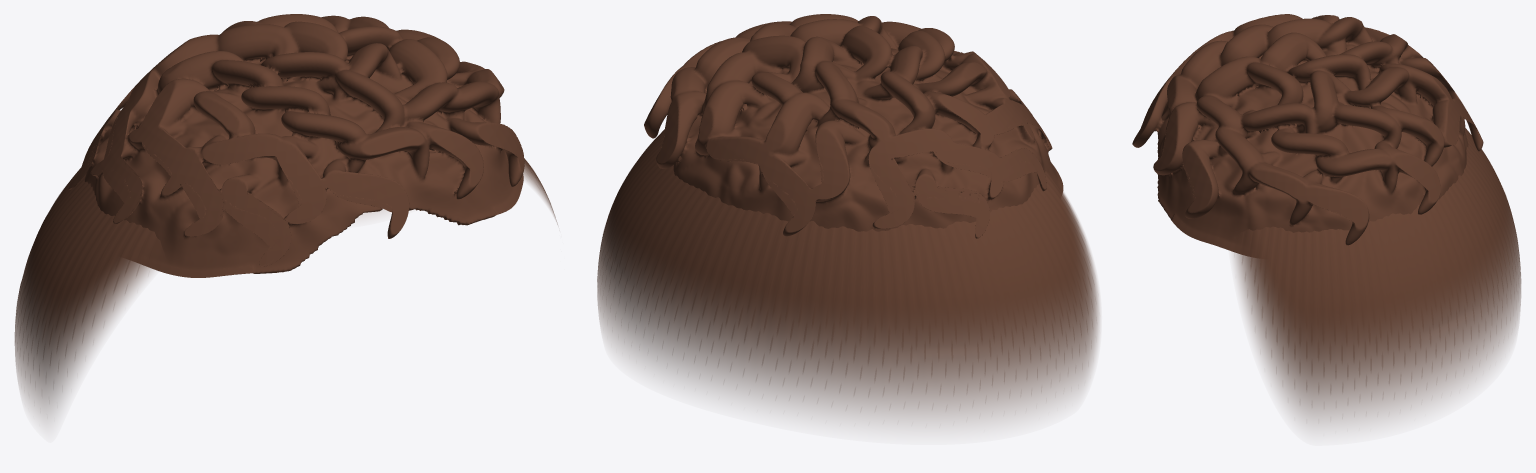
File: Masculine-curly-top-beanie257-hair.glb
3 views of the same model, side by side, from view 1: azimuth 30°, elevation 25°; view 2: azimuth 150°, elevation 25°; view 3: azimuth 270°, elevation 25° (orthographic). The views are drawn at different scales.
Visible parts, largest first — view 1: 226 hair / Hair252 / sculpted curl groups, 226 hair / Hair257 / smooth side fade, 226 hair / Hair257 / directional fade marks; view 2: 226 hair / Hair257 / smooth side fade, 226 hair / Hair252 / sculpted curl groups, 226 hair / Hair257 / directional fade marks; view 3: 226 hair / Hair252 / sculpted curl groups, 226 hair / Hair257 / smooth side fade, 226 hair / Hair257 / directional fade marks.
Boxes of the visible parts, bbox=[...] form: 226 hair / Hair252 / sculpted curl groups: bbox=[68, 14, 524, 277]; 226 hair / Hair257 / smooth side fade: bbox=[15, 158, 557, 419]; 226 hair / Hair257 / directional fade marks: bbox=[16, 160, 534, 370]; 226 hair / Hair257 / smooth side fade: bbox=[597, 129, 1099, 424]; 226 hair / Hair252 / sculpted curl groups: bbox=[644, 14, 1063, 238]; 226 hair / Hair257 / directional fade marks: bbox=[602, 130, 1091, 393]; 226 hair / Hair252 / sculpted curl groups: bbox=[1132, 14, 1483, 256]; 226 hair / Hair257 / smooth side fade: bbox=[1231, 128, 1520, 426]; 226 hair / Hair257 / directional fade marks: bbox=[1241, 128, 1516, 392].
Size of the model in its own units: 0.9723 by 0.665 by 0.7431.
